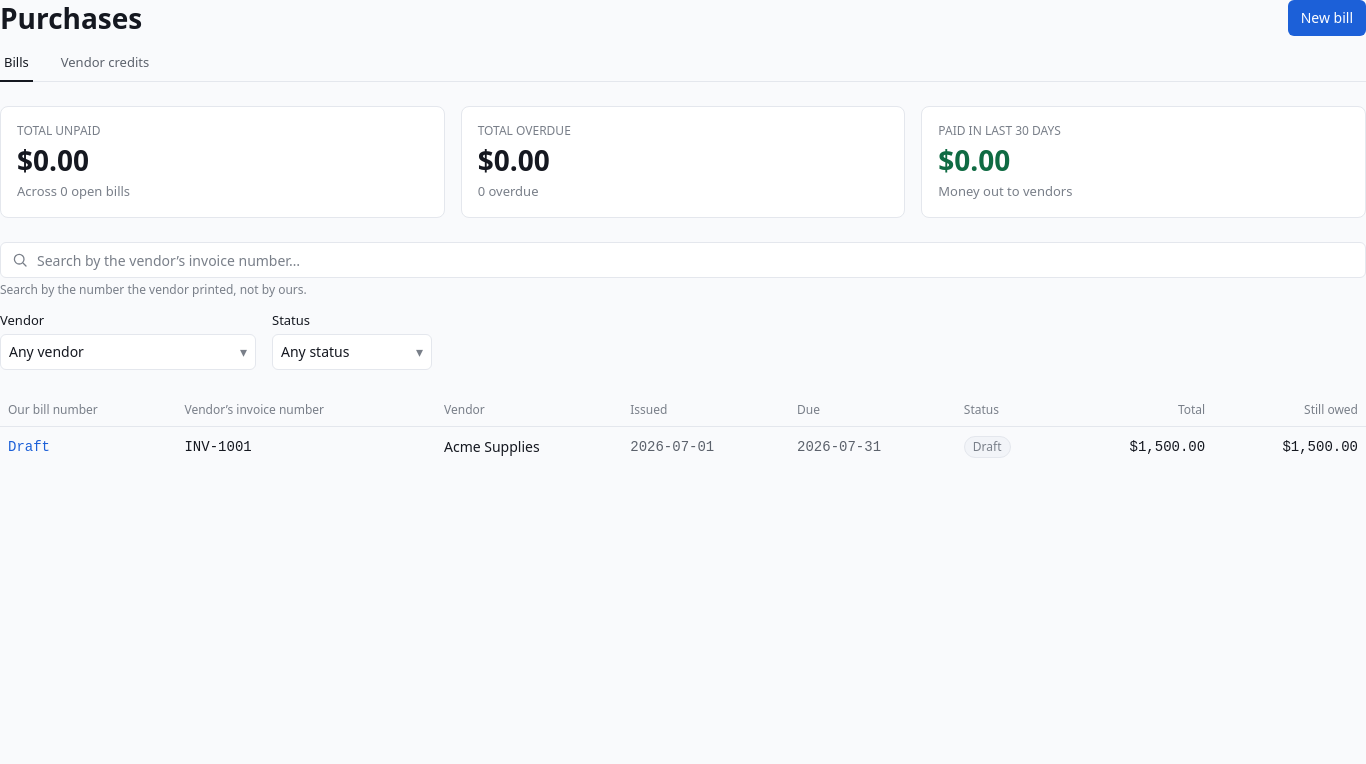
Scenario: approving › posts to /approve and patches no status
Click the button "Draft" at (29, 447), box [8, 436, 50, 458]
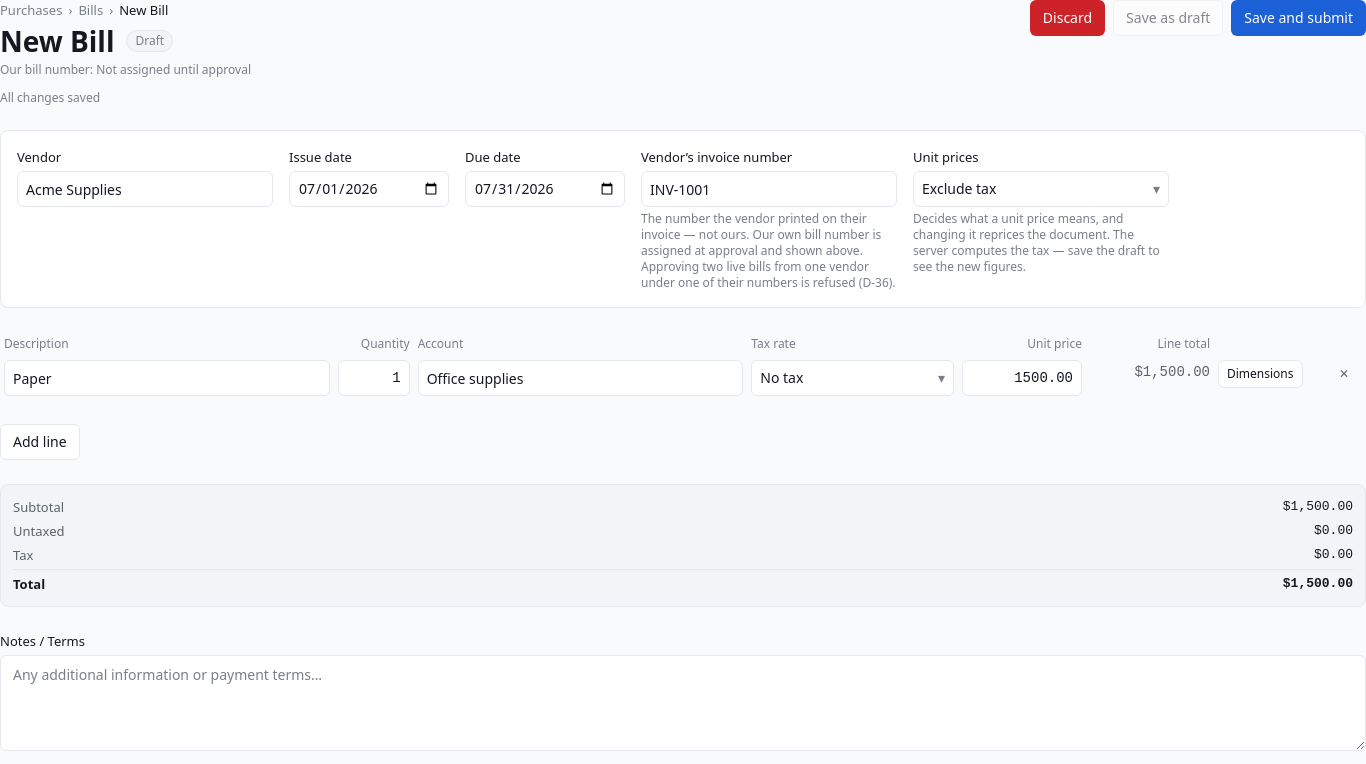
Click the button "Save and submit" at (1299, 18), box [1231, 0, 1365, 36]
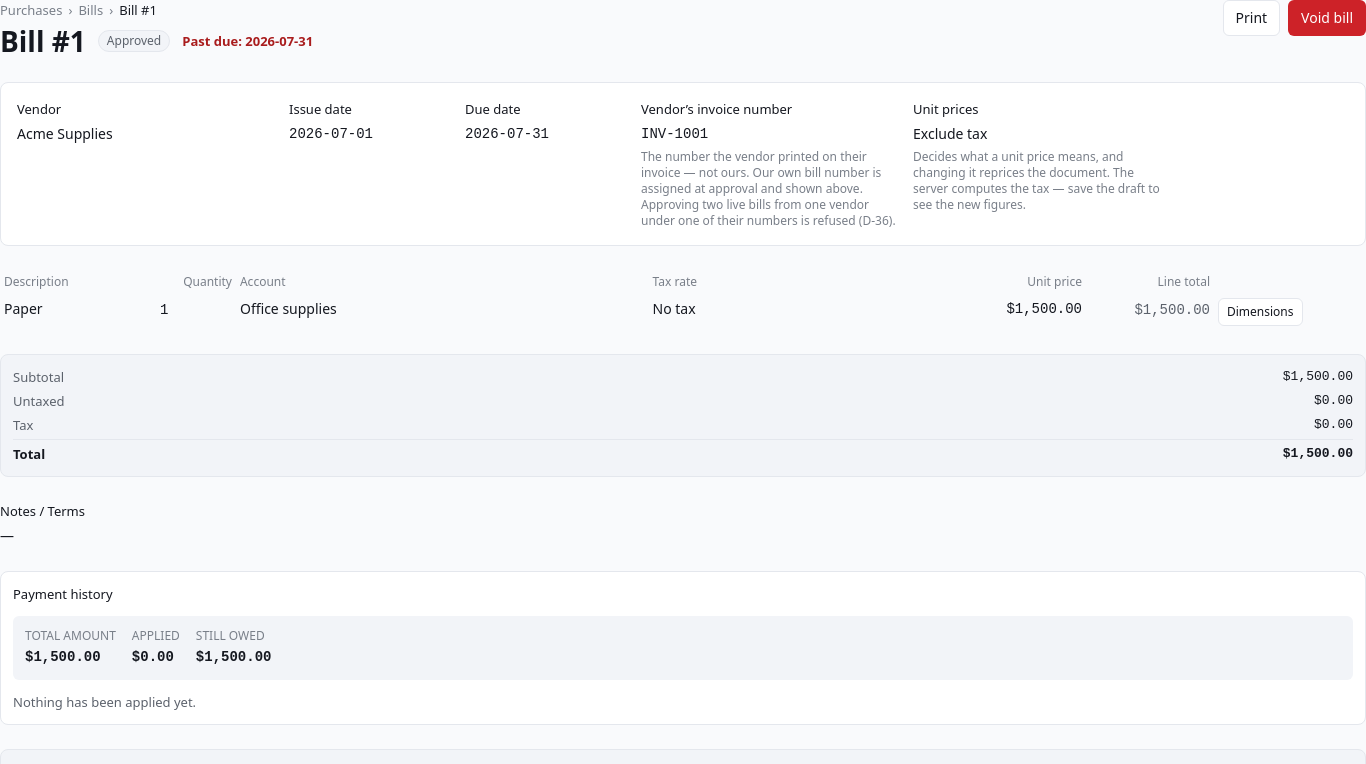
expect the button "Void bill" is shown: met, box [1288, 0, 1365, 36]
